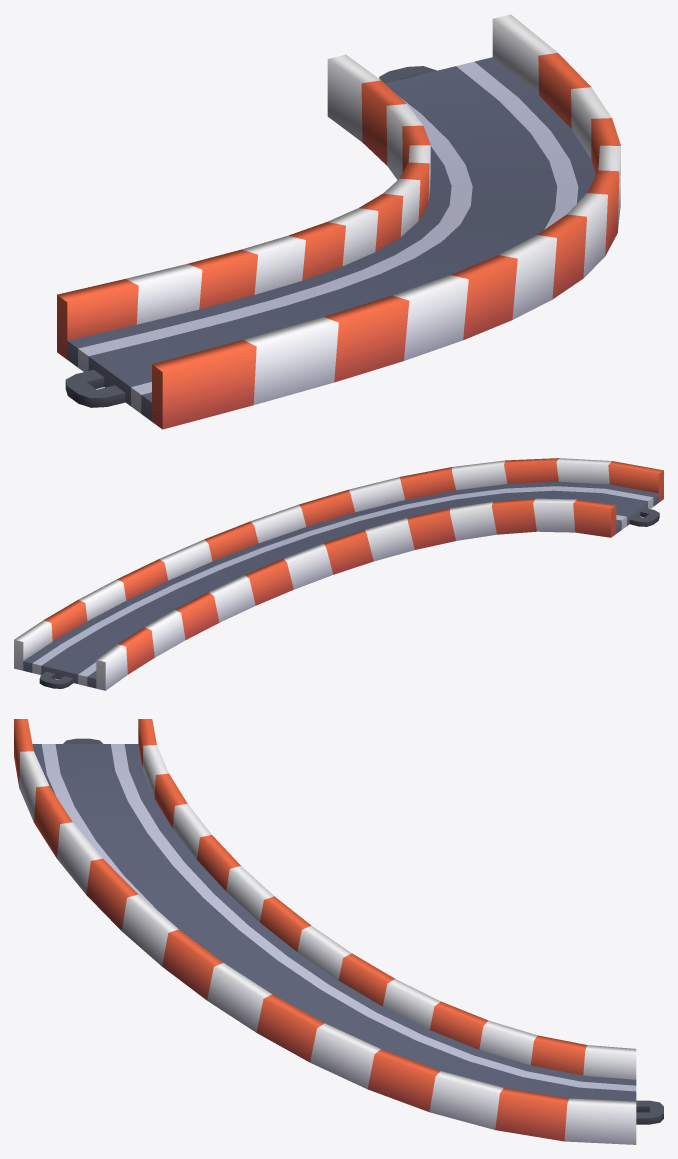
The model's file is kenney-toy-car-track-road-narrow-corner-large-ramp.glb.
3 views of the same model, one above another, from view 1: azimuth 30°, elevation 25°; view 2: azimuth 150°, elevation 25°; view 3: azimuth 270°, elevation 25° (orthographic). The views are drawn at different scales.
Visible parts, largest first — view 1: track-road-narrow-corner-large-ramp; view 2: track-road-narrow-corner-large-ramp; view 3: track-road-narrow-corner-large-ramp.
Boxes of the visible parts, x1,y1,x2,y2 form: track-road-narrow-corner-large-ramp: (57, 14, 620, 429); track-road-narrow-corner-large-ramp: (14, 458, 663, 690); track-road-narrow-corner-large-ramp: (14, 719, 663, 1144).
Size of the model in its own units: 4.7 by 1.3 by 4.7.
Materials: 1 (1 with a texture image).
